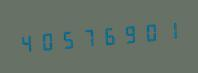five: (57, 23, 76, 54)
four: (17, 27, 36, 58)
nine: (117, 18, 136, 49)
one: (157, 14, 176, 46)
seven: (77, 21, 96, 53)
six: (97, 20, 116, 51)
zero: (37, 25, 56, 56), (137, 16, 156, 47)
